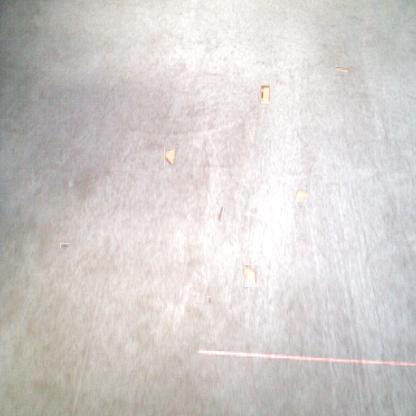dirty: (242, 265, 258, 287), (164, 146, 177, 166), (258, 84, 270, 104), (292, 190, 309, 204), (332, 68, 350, 76)
mark: (216, 205, 224, 222), (206, 296, 212, 305), (61, 242, 68, 249)
